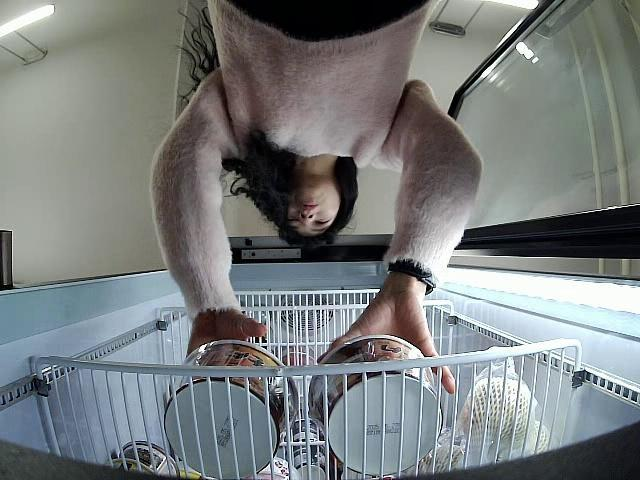05_nuguri_L: (307, 336, 443, 476), (163, 343, 297, 480)
